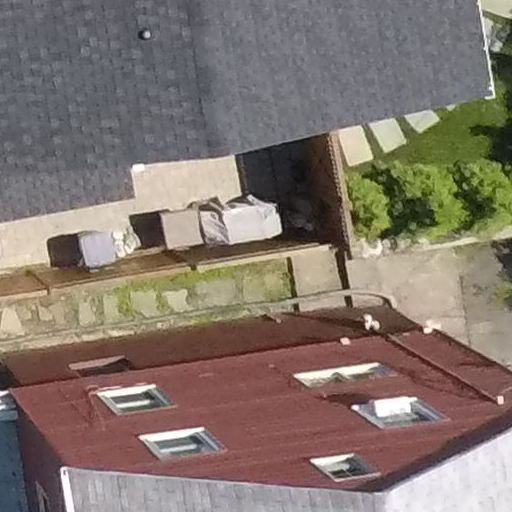gutter: (1, 278, 396, 368)
